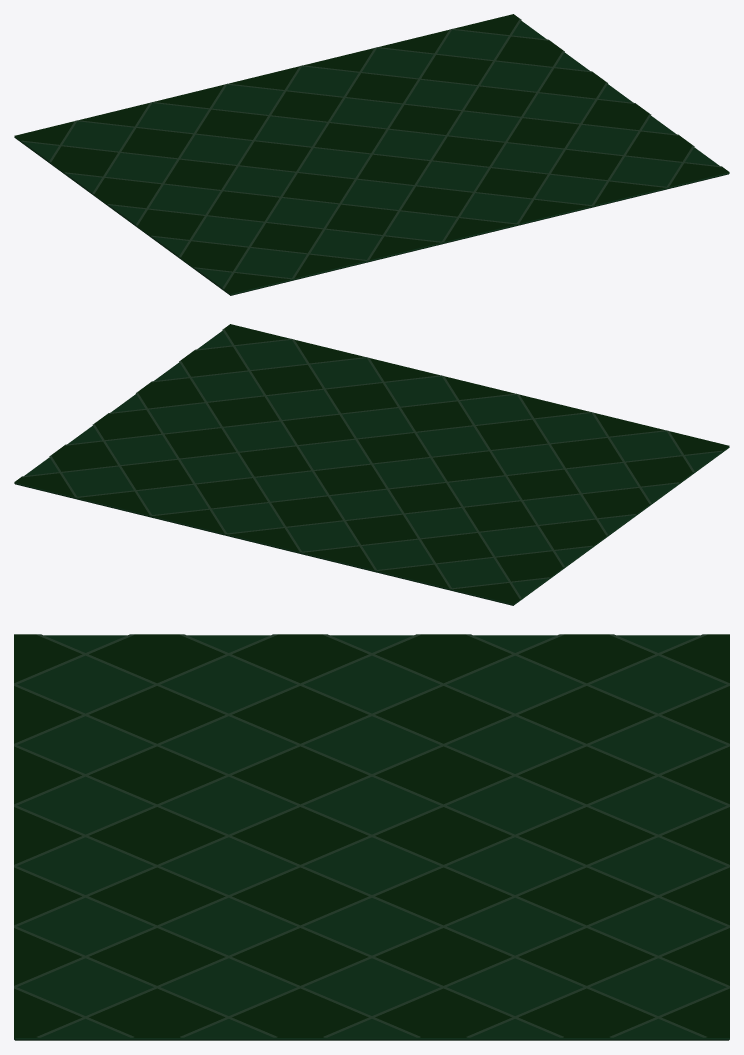
The picture shows the model from 3 angles, top to bottom: view 1: azimuth 30°, elevation 25°; view 2: azimuth 150°, elevation 25°; view 3: azimuth 270°, elevation 25°; orthographic projection. The views are drawn at different scales.
Visible parts, largest first — view 1: furniture_6_rug; view 2: furniture_6_rug; view 3: furniture_6_rug.
Part boxes in pixels (left/top/right/bottom): furniture_6_rug: left=14, top=14, right=729, bottom=295; furniture_6_rug: left=14, top=324, right=729, bottom=605; furniture_6_rug: left=14, top=634, right=729, bottom=1040.
Size of the model in its own units: 8 by 0.035 by 6.
